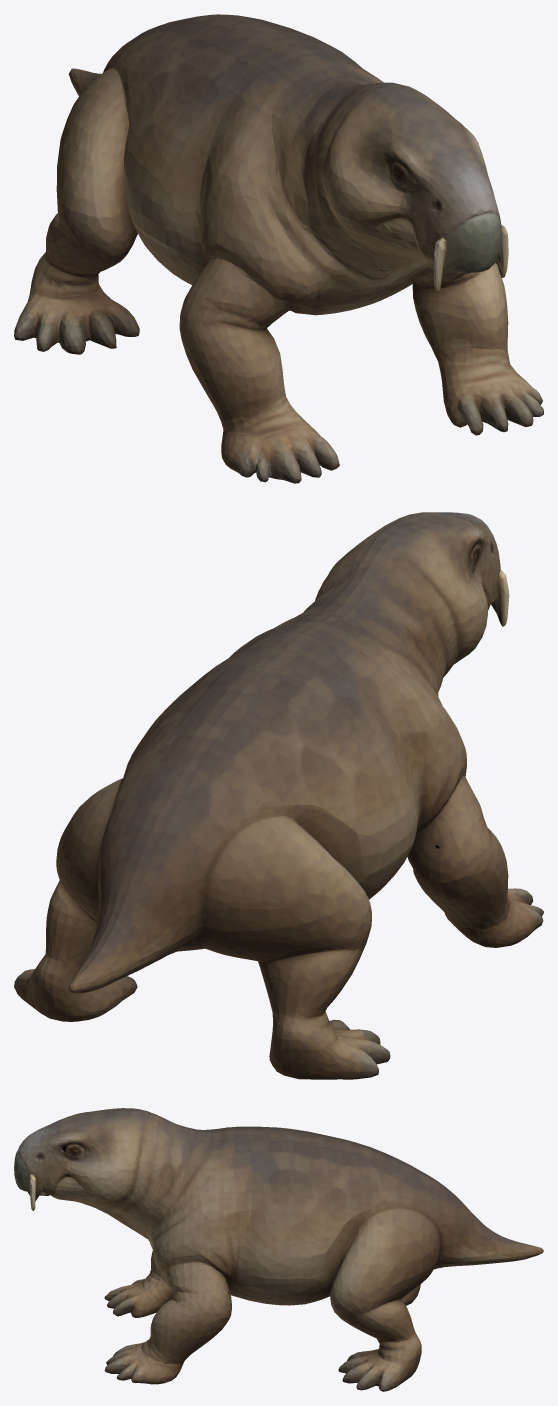
3 views of the same model, one above another, from view 1: azimuth 30°, elevation 25°; view 2: azimuth 150°, elevation 25°; view 3: azimuth 270°, elevation 25° (orthographic). The views are drawn at different scales.
Parts seen in each view (by area): view 1: world; view 2: world; view 3: world.
Part boxes in pixels (bbox=[...]): world: bbox=[14, 14, 543, 483]; world: bbox=[14, 512, 543, 1079]; world: bbox=[14, 1108, 543, 1391].
Size of the model in its own units: 0.6077 by 0.5734 by 1.2.
1 material, 1 textured.
